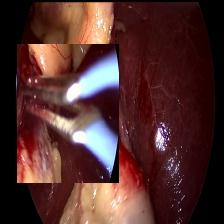Bipolar: (16, 43, 118, 182)
